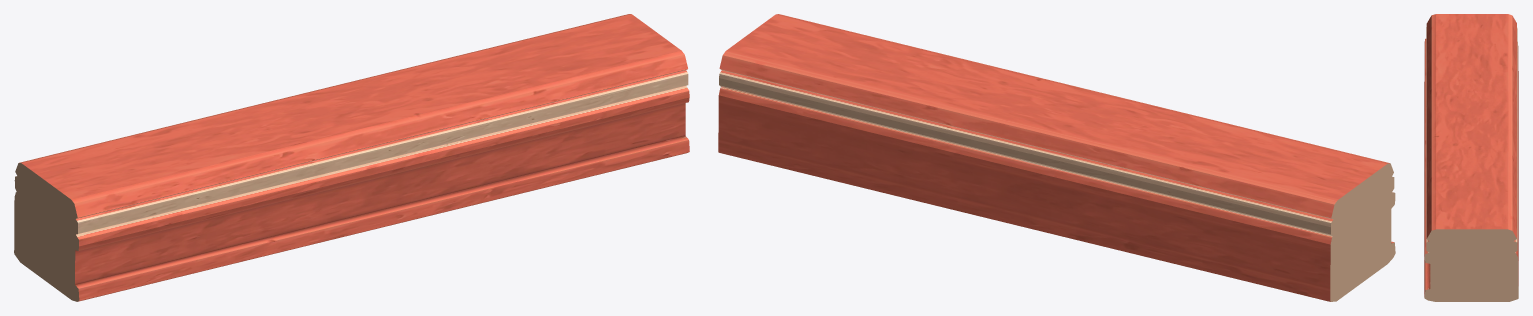
Rendered from edge_coral.glb.
3 views of the same model, side by side, from view 1: azimuth 30°, elevation 25°; view 2: azimuth 150°, elevation 25°; view 3: azimuth 270°, elevation 25° (orthographic). The views are drawn at different scales.
Visible parts, largest first — view 1: edge_coral; view 2: edge_coral; view 3: edge_coral.
Part boxes in pixels (x1=…): edge_coral: x1=14, y1=14, x2=689, y2=301; edge_coral: x1=718, y1=14, x2=1395, y2=301; edge_coral: x1=1424, y1=14, x2=1518, y2=301.
Bounding box in the file's own units: 2.8 × 0.4398 × 0.5181.
Materials: 1 (1 with a texture image).
